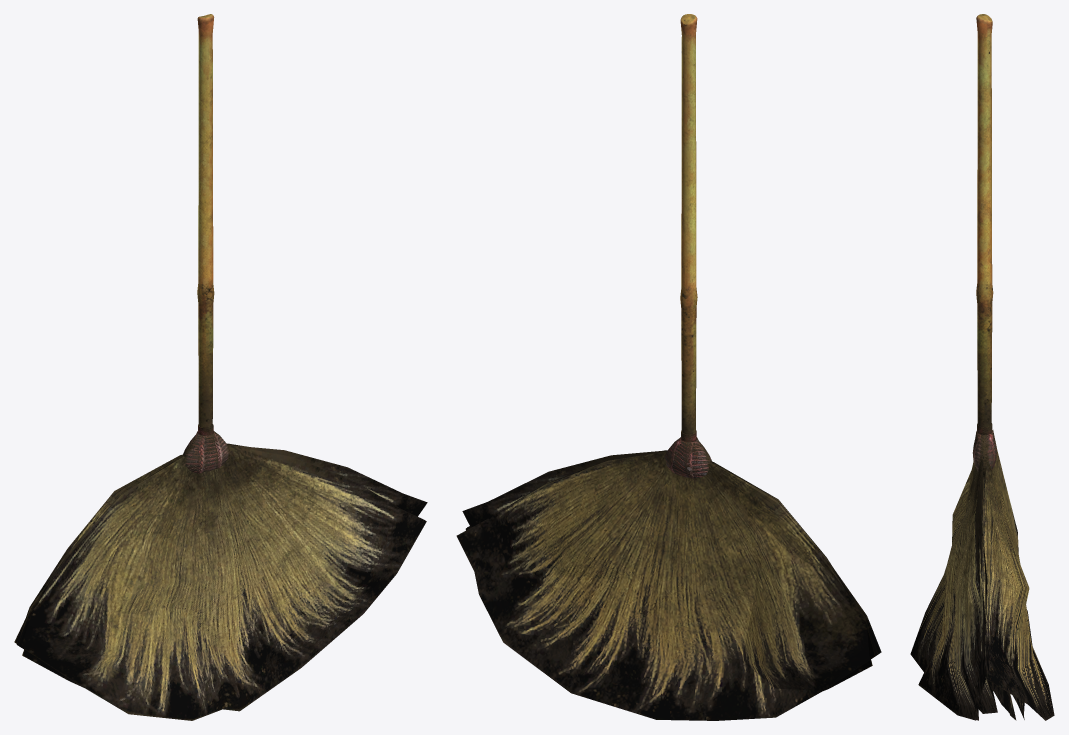
Rendered from broom01.FBX.
3 renders of one model, left to right at view 1: azimuth 30°, elevation 25°; view 2: azimuth 150°, elevation 25°; view 3: azimuth 270°, elevation 25°, orthographic.
Parts seen in each view (by area): view 1: SM_Broom01; view 2: SM_Broom01; view 3: SM_Broom01.
Part boxes in pixels (x1,y1,x2,y2): SM_Broom01: (14, 14, 427, 720); SM_Broom01: (456, 14, 881, 720); SM_Broom01: (910, 14, 1054, 720).
Bounding box in the file's own units: 84.57 × 132 × 25.79.
1 material, 1 textured.
